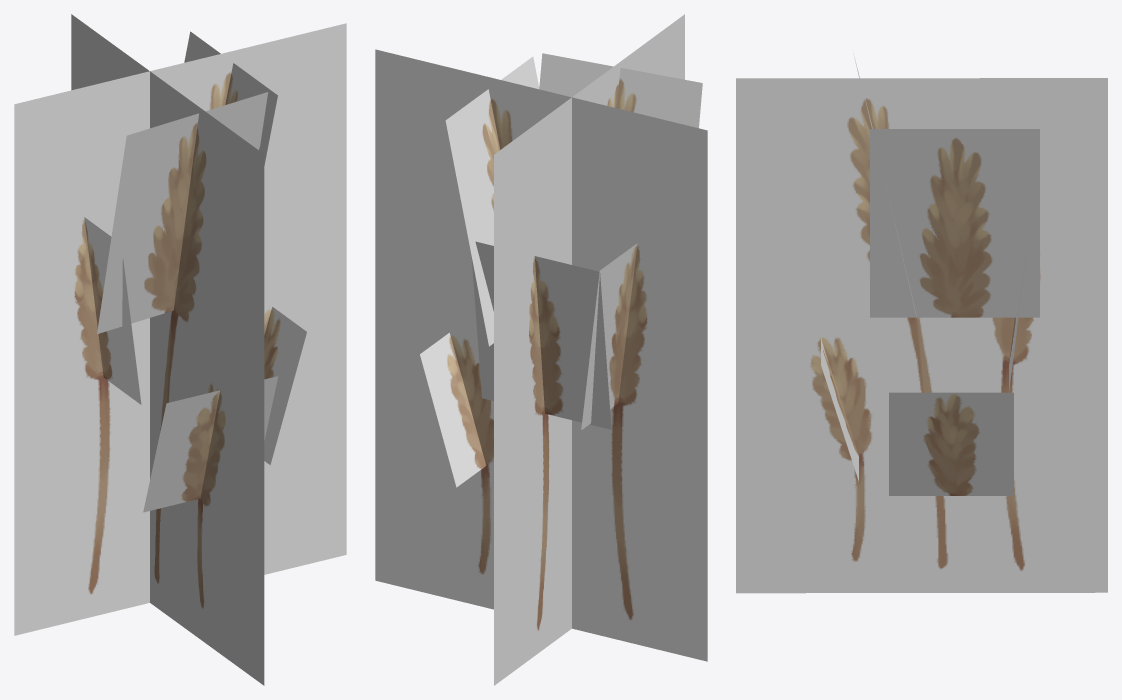
The model's file is trockene_pflanze.fbx.
3 views of the same model, side by side, from view 1: azimuth 30°, elevation 25°; view 2: azimuth 150°, elevation 25°; view 3: azimuth 270°, elevation 25° (orthographic). The views are drawn at different scales.
Parts seen in each view (by area): view 1: Trockene_Pflanze; view 2: Trockene_Pflanze; view 3: Trockene_Pflanze.
Part boxes in pixels (x1,y1,x2,y2): Trockene_Pflanze: [14, 14, 346, 685]; Trockene_Pflanze: [375, 14, 707, 685]; Trockene_Pflanze: [736, 53, 1107, 593].
Bounding box in the file's own units: 59.19 × 90.39 × 59.19.
